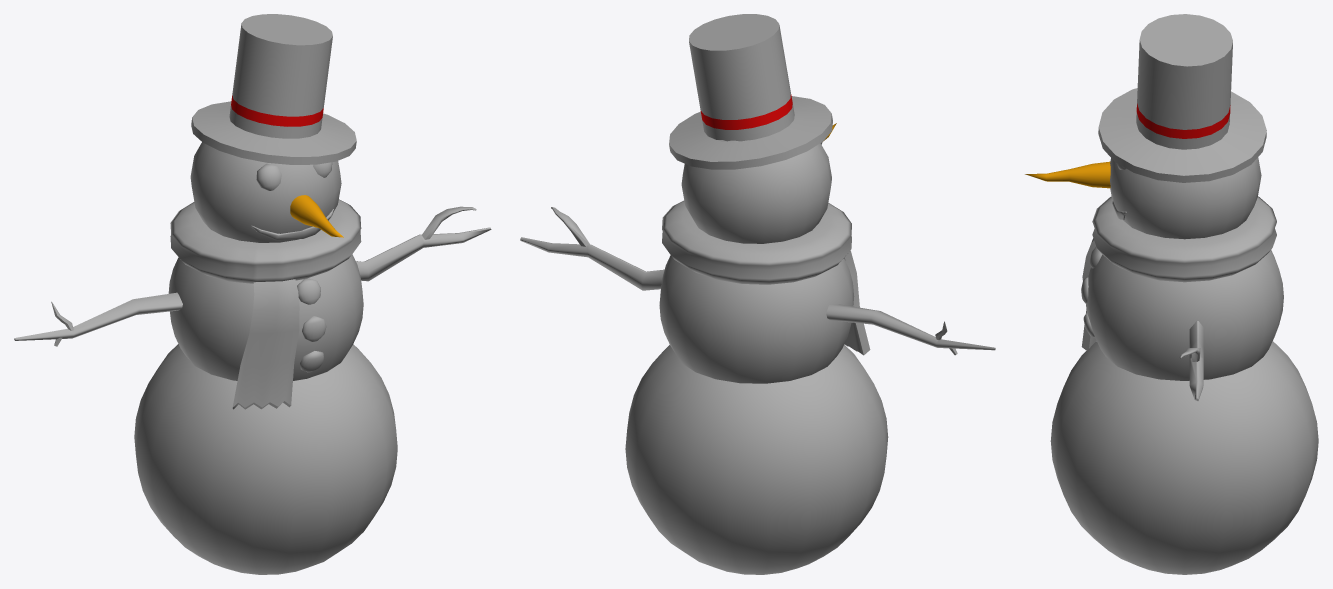
Rendered from snowman.fbx.
3 renders of one model, left to right at view 1: azimuth 30°, elevation 25°; view 2: azimuth 150°, elevation 25°; view 3: azimuth 270°, elevation 25°, orthographic.
Visible parts, largest first — view 1: pBottom, pHat, pScarf, pMiddle, pHead, pArm1, pArm2, pCarrot; view 2: pBottom, pMiddle, pHat, pHead, pScarf, pArm2, pArm1; view 3: pBottom, pHat, pMiddle, pScarf, pHead, pCarrot, pArm2.
Part boxes in pixels (box(x1,y1,x2,y2)): pBottom: box(134, 344, 397, 574); pHat: box(191, 14, 356, 164); pScarf: box(170, 199, 361, 409); pMiddle: box(168, 254, 363, 380); pHead: box(190, 142, 341, 242); pArm1: box(14, 292, 182, 346); pArm2: box(356, 206, 491, 281); pCarrot: box(290, 195, 343, 237); pBottom: box(625, 344, 888, 574); pMiddle: box(659, 255, 854, 383); pHat: box(669, 14, 832, 169); pHead: box(681, 138, 831, 243); pScarf: box(662, 200, 870, 355); pArm2: box(520, 207, 664, 290); pArm1: box(826, 304, 995, 355); pBottom: box(1050, 341, 1318, 574); pHat: box(1098, 14, 1266, 182); pMiddle: box(1086, 250, 1283, 380); pScarf: box(1081, 196, 1276, 350); pHead: box(1110, 119, 1261, 239); pCarrot: box(1025, 161, 1110, 188); pArm2: box(1179, 321, 1203, 400).
Size of the model in its own units: 5.81 by 6.24 by 3.08.
